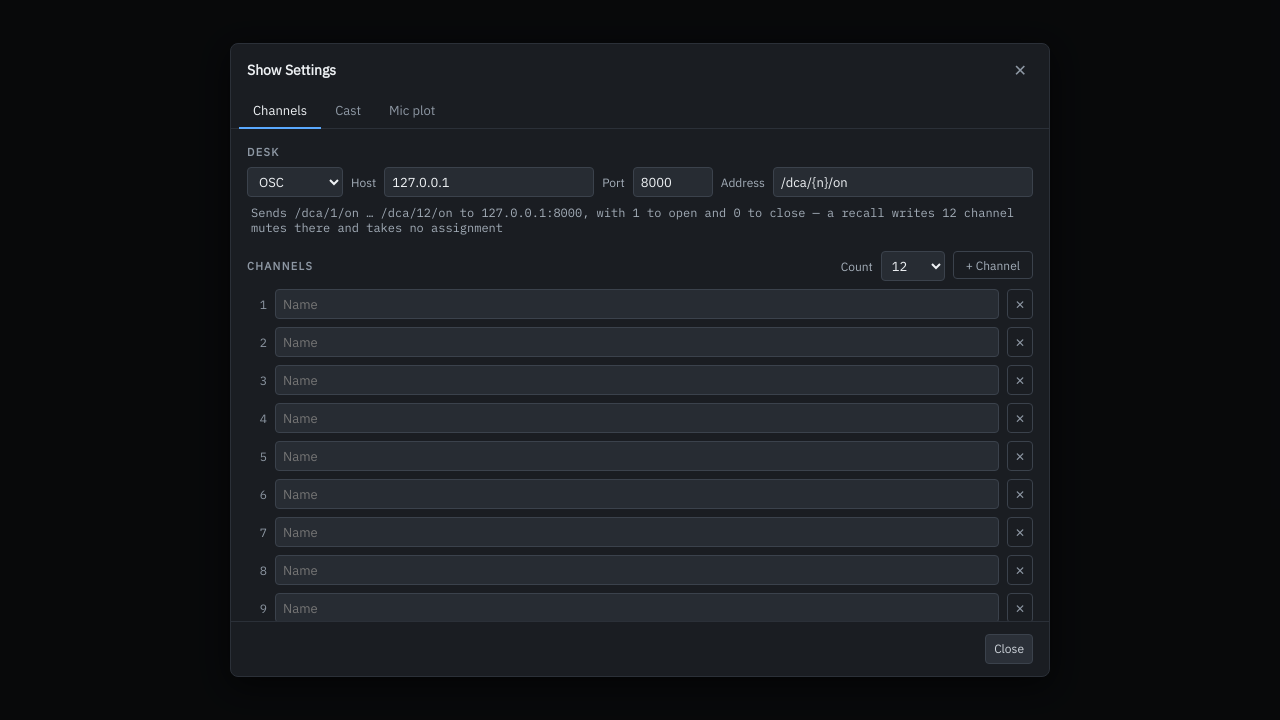
Scenario: ShowSettings › switches tabs, showing the one the header was pressed for
Click the button with class "show-settings-tab" showing "Cast" at (348, 112), box [321,94,375,129]
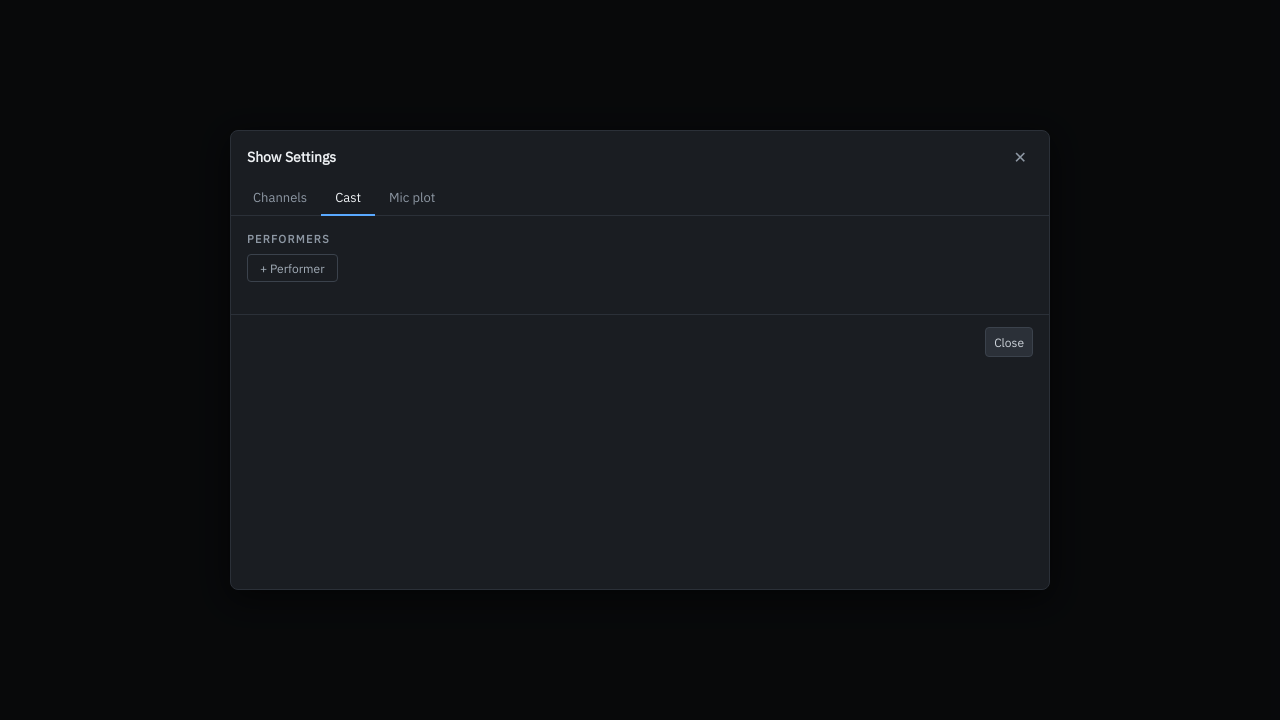
Result: the button "+ Performer" is shown at [247,254,338,282]
Click the button with class "show-settings-tab" showing "Mic plot" at (412, 198), box [375,181,449,216]
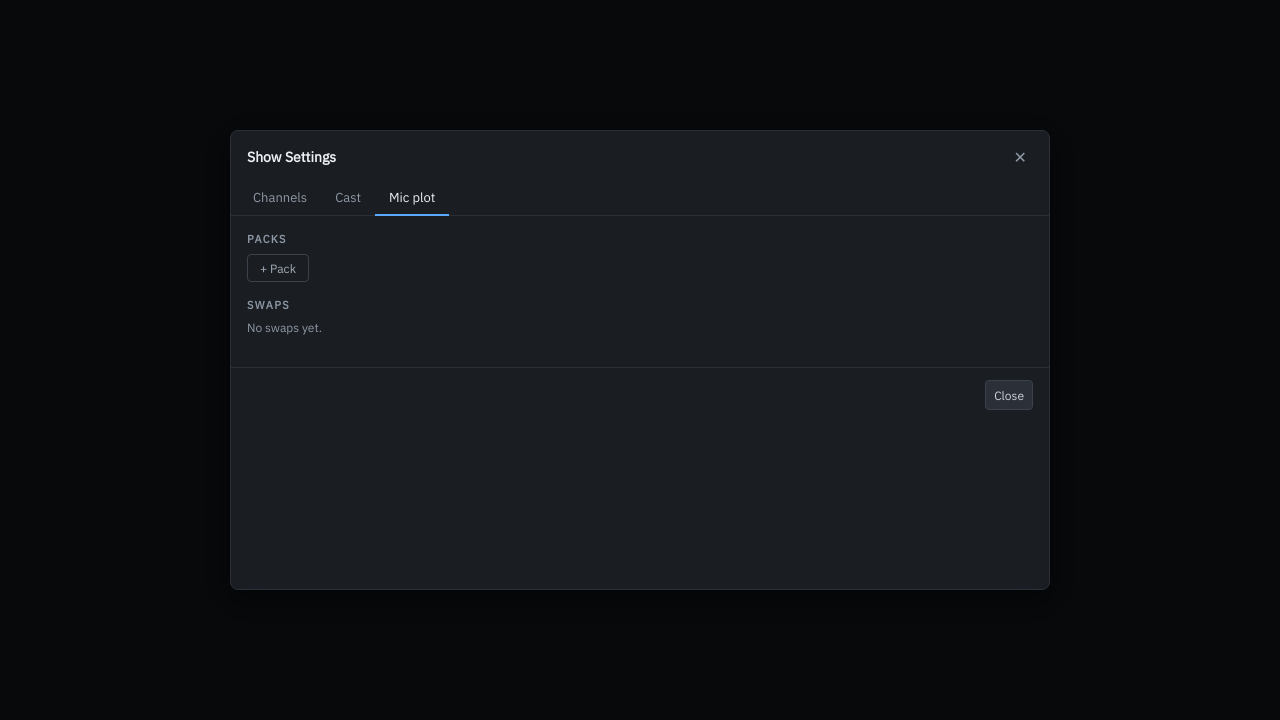
Result: the button "+ Pack" is shown at [247,254,309,282]
